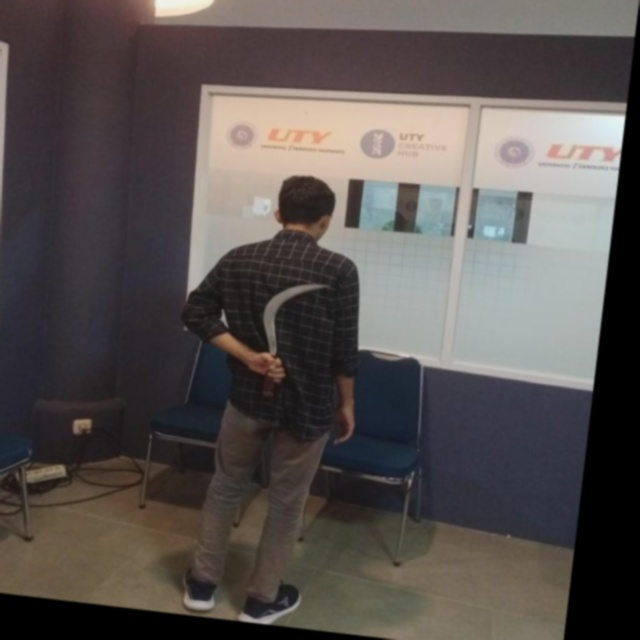Sharp-Object: (246, 266, 337, 398)
